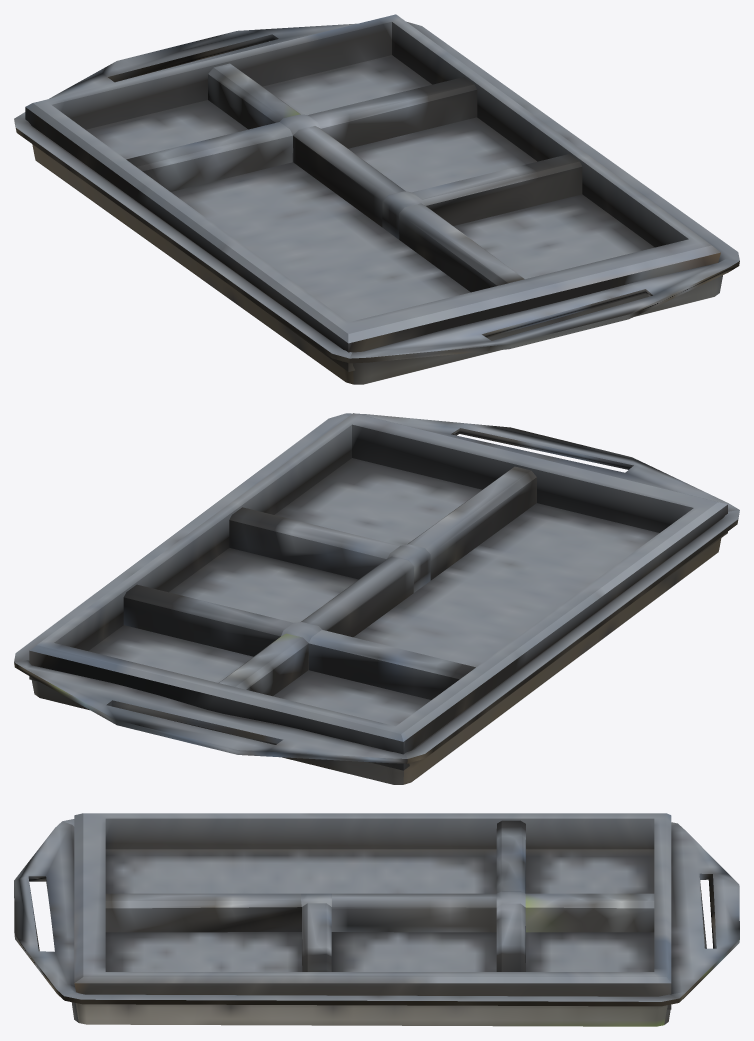
The model's file is MessTray.fbx.
The picture shows the model from 3 angles, top to bottom: view 1: azimuth 30°, elevation 25°; view 2: azimuth 150°, elevation 25°; view 3: azimuth 270°, elevation 25°; orthographic projection. The views are drawn at different scales.
Parts seen in each view (by area): view 1: MessTray.001; view 2: MessTray.001; view 3: MessTray.001.
Part boxes in pixels (left/top/right/bottom): MessTray.001: left=14, top=14, right=739, bottom=384; MessTray.001: left=14, top=413, right=739, bottom=784; MessTray.001: left=14, top=813, right=739, bottom=1026.
Bounding box in the file's own units: 58.47 × 7.15 × 97.26.
